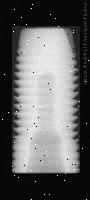OsseoLink: (11, 26, 80, 173)
